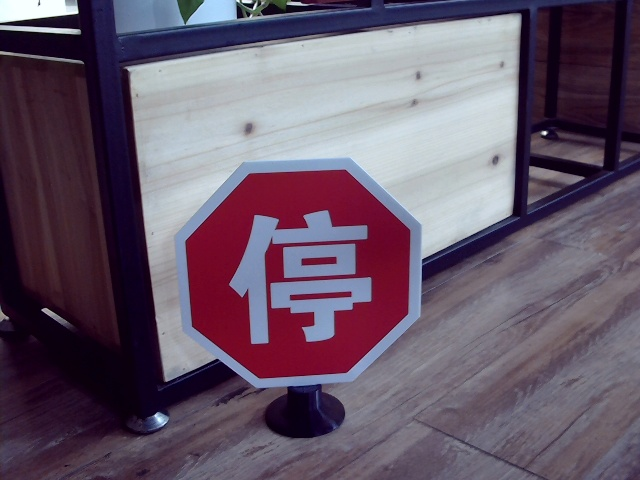stop: (226, 209, 378, 344)
